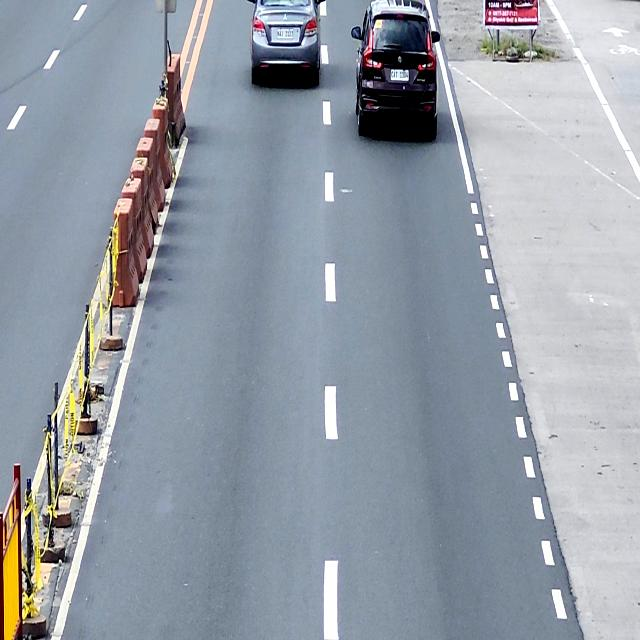Car: (350, 0, 440, 139), (247, 0, 322, 87)
License-Plate: (390, 67, 410, 82), (276, 28, 292, 41)
